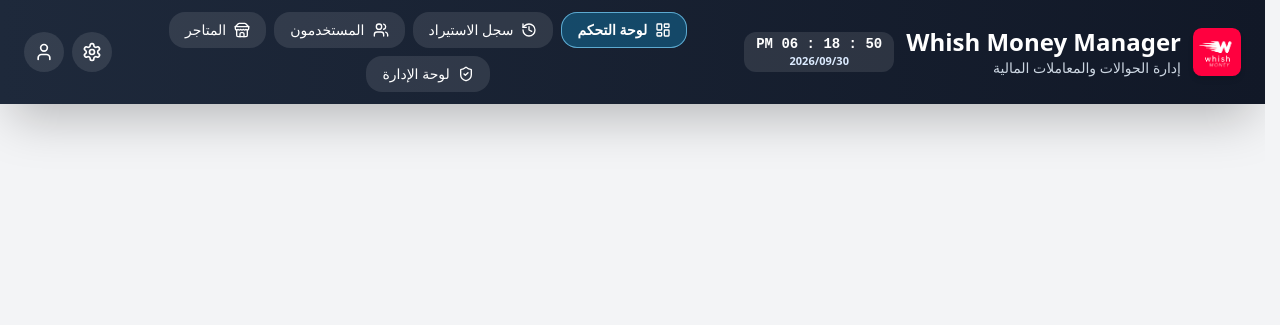
Test case: screens in English › header in Arabic keeps its Arabic labels, and has no language switch (it's in Settings)
The width and height of the screenshot is (1280, 325).
Click the button with test id "user-menu-button" at point(44, 52), box [24,32,64,72]
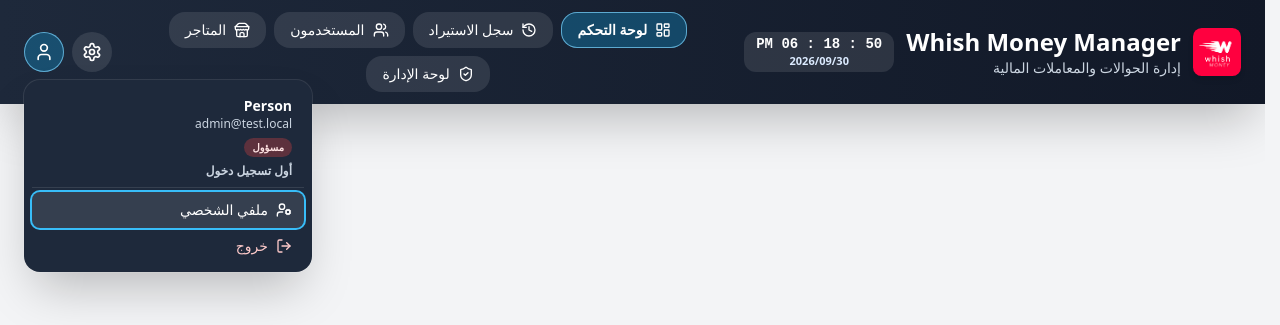
Now the menu item "خروج" is shown, box [32,228,304,264]
Now the text with test id "role-badge" reads "مسؤول", box [252,140,284,154]
